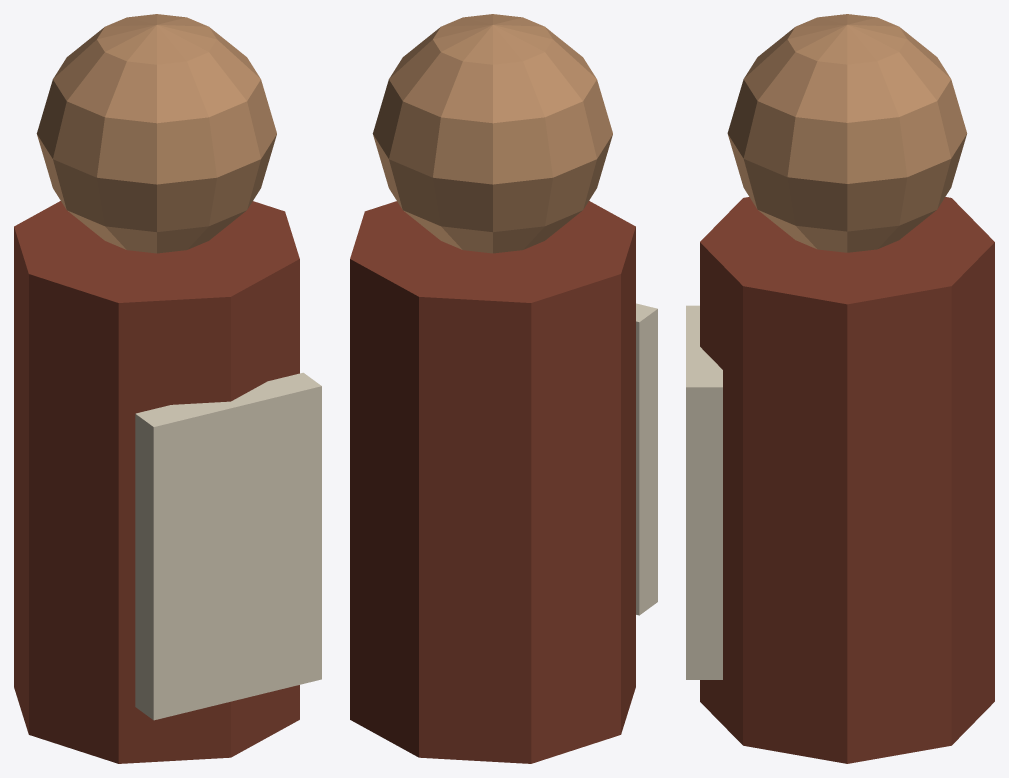
Rendered from keeper.gltf.
3 views of the same model, side by side, from view 1: azimuth 30°, elevation 25°; view 2: azimuth 150°, elevation 25°; view 3: azimuth 270°, elevation 25° (orthographic).
Visible parts, largest first — view 1: coat, apron, face; view 2: coat, face, apron; view 3: coat, face, apron.
Part boxes in pixels (box(x1,y1,x2,y2)): coat: box(14, 201, 299, 763); apron: box(135, 372, 321, 720); face: box(36, 14, 276, 253); coat: box(350, 201, 635, 763); face: box(372, 14, 612, 253); apron: box(636, 303, 657, 615); coat: box(700, 197, 994, 763); face: box(727, 14, 967, 252); apron: box(686, 305, 722, 679).
Size of the model in its own units: 0.64 by 1.62 by 0.67.
